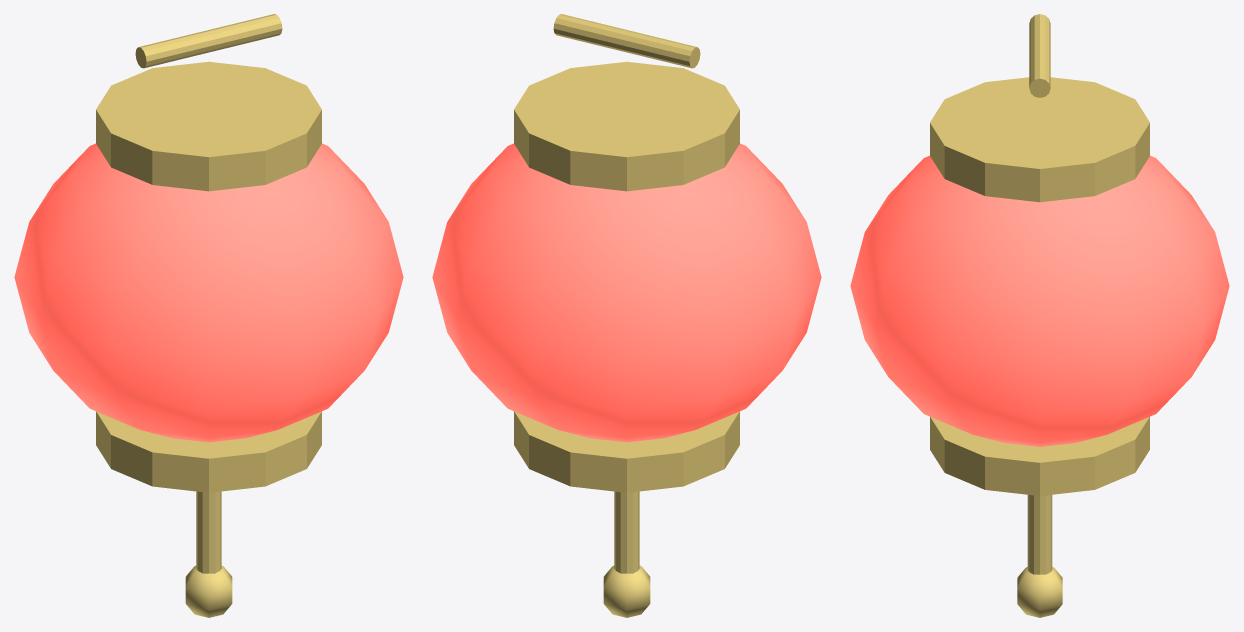
Rendered from lantern.glb.
3 renders of one model, left to right at view 1: azimuth 30°, elevation 25°; view 2: azimuth 150°, elevation 25°; view 3: azimuth 270°, elevation 25°, orthographic. The views are drawn at different scales.
Parts seen in each view (by area): view 1: lantern; view 2: lantern; view 3: lantern.
Part boxes in pixels (<box>): lantern: <box>14,14,403,617</box>; lantern: <box>432,14,821,617</box>; lantern: <box>850,14,1229,617</box>.
Size of the model in its own units: 0.124 by 0.2055 by 0.124.
